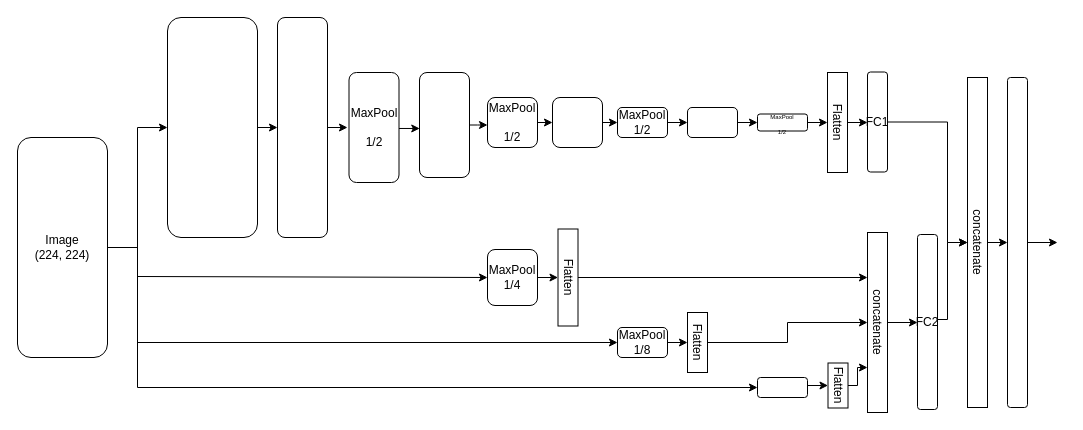
This 1083x430 diagram has some shape labels left out. Here are the shapes that lost their labels. From the top down, the box of each, then its label:
(166, 16, 258, 238): Pretrained DenseNet121
(276, 16, 328, 238): conv1
(418, 72, 470, 178): conv2
(552, 96, 602, 148): conv3
(686, 106, 738, 138): conv4
(1006, 76, 1028, 408): FC
(756, 376, 808, 398): MaxPool 1/16
